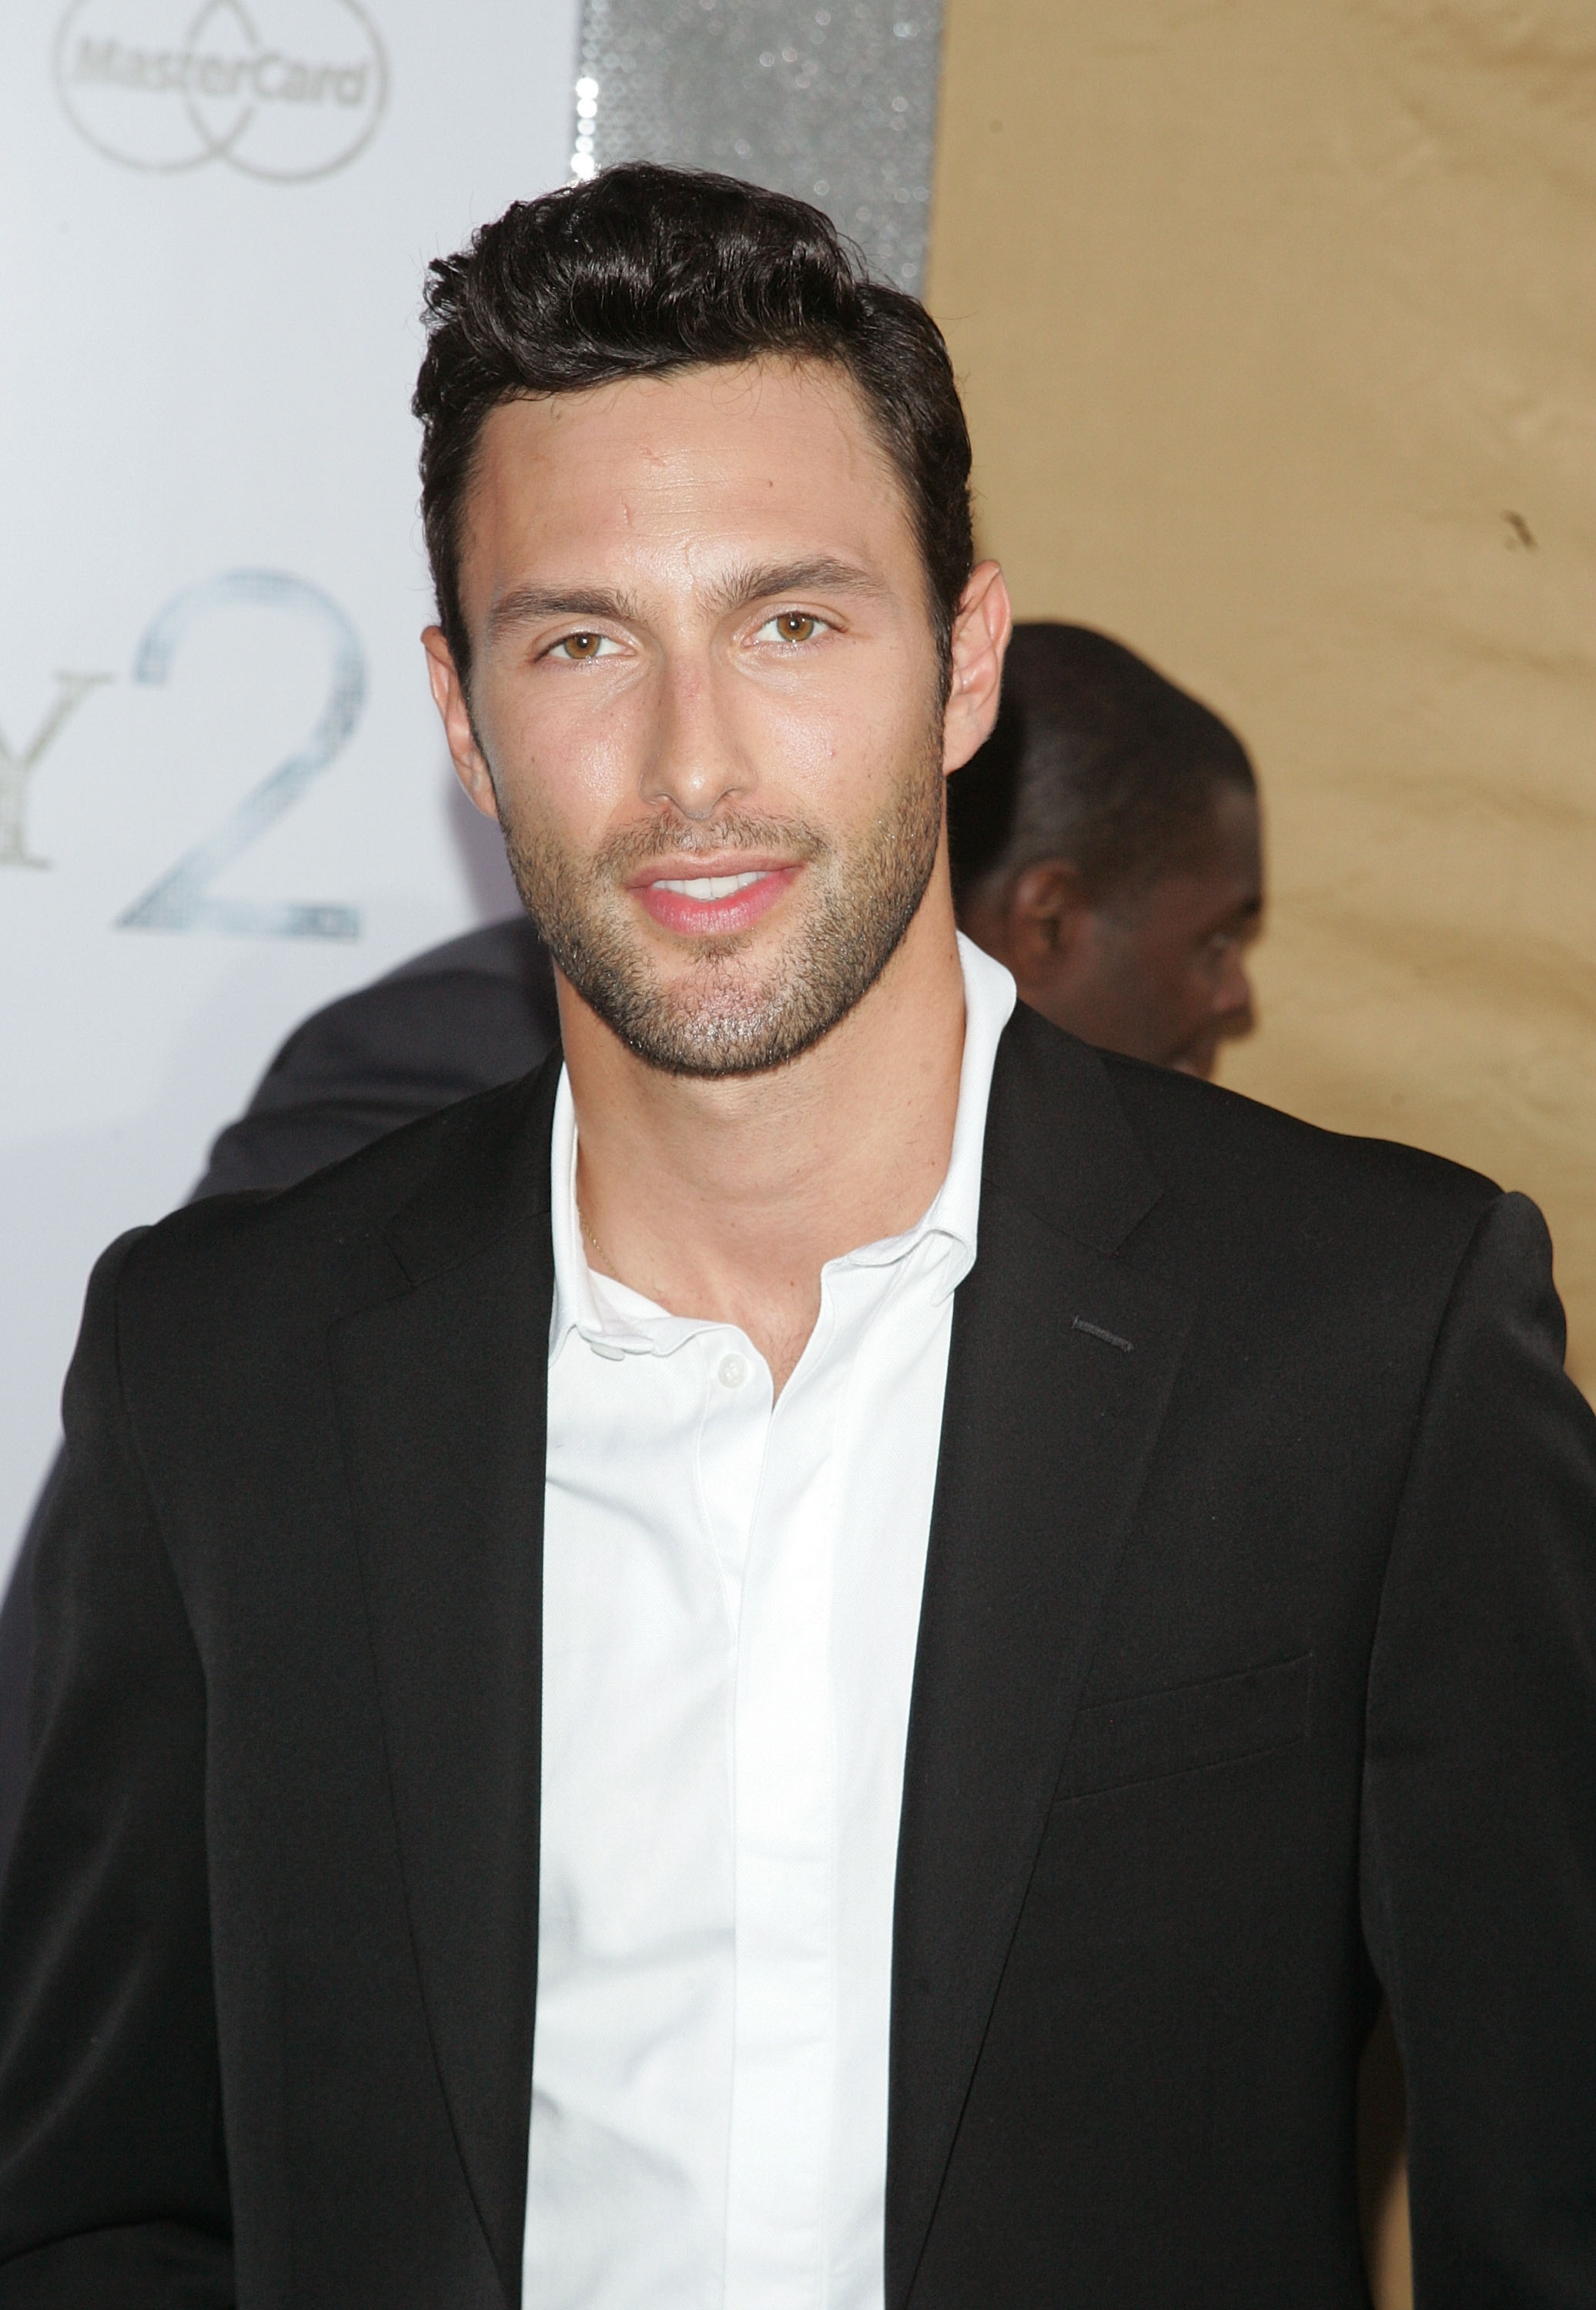person: (1, 142, 1596, 2310)
